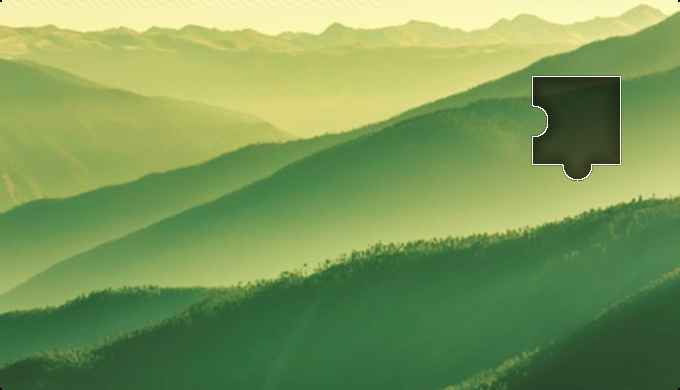gap: (532, 77, 619, 181)
